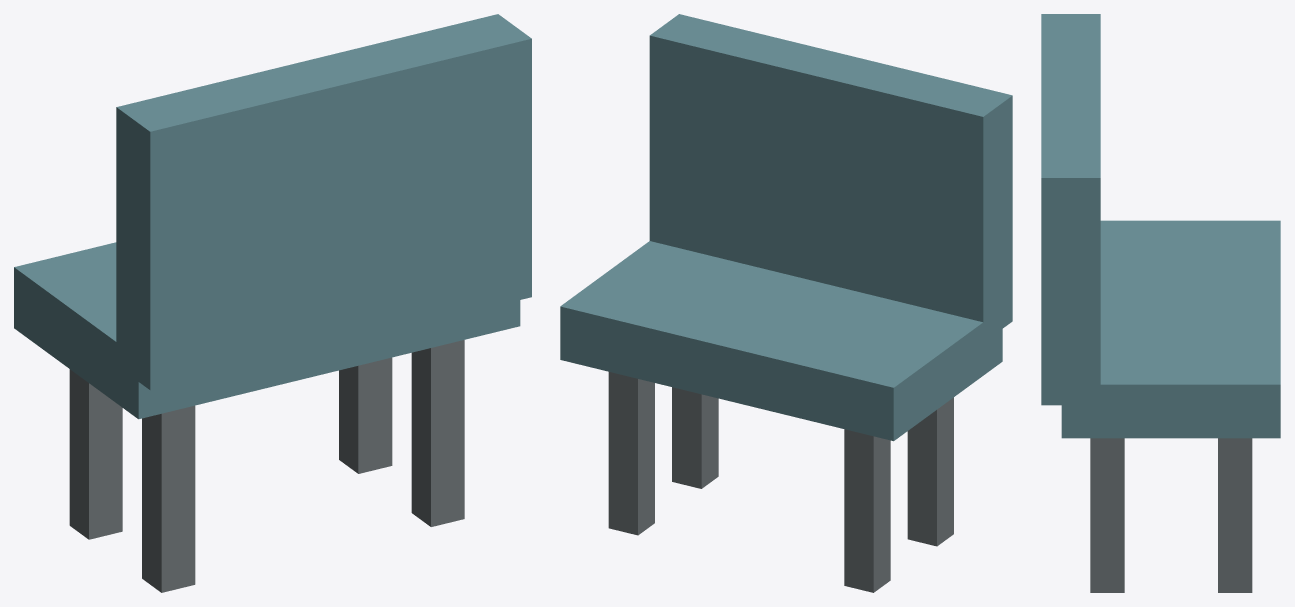
Rendered from minibus_bench.glb.
The picture shows the model from 3 angles, left to right: view 1: azimuth 30°, elevation 25°; view 2: azimuth 150°, elevation 25°; view 3: azimuth 270°, elevation 25°; orthographic projection. The views are drawn at different scales.
Visible parts, largest first — view 1: body; view 2: body; view 3: body.
Boxes of the visible parts, x1,y1,x2,y2 form: body: (14, 14, 531, 592); body: (560, 14, 1012, 592); body: (1041, 14, 1280, 592).
Bounding box in the file's own units: 0.85 × 1.04 × 0.525.
